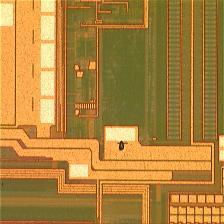PARTICLE: (116, 139, 132, 155)
